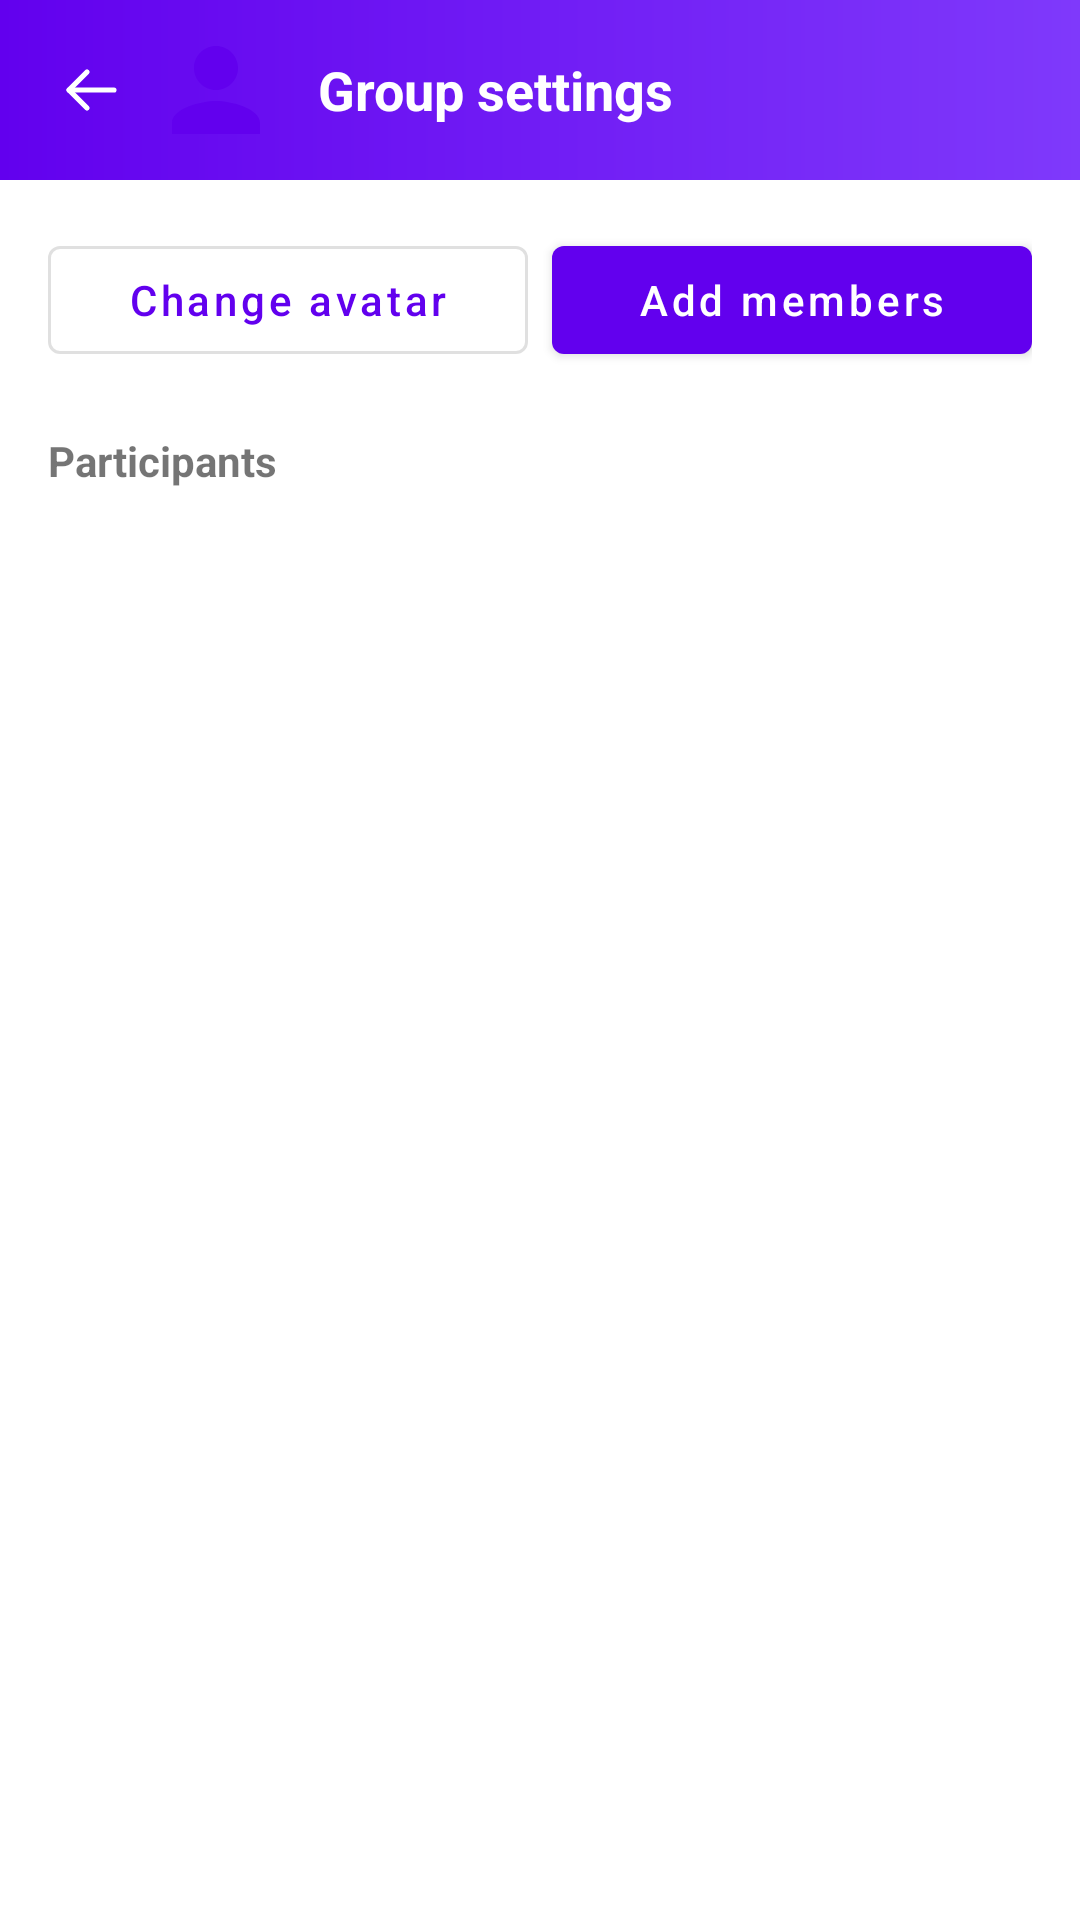

Locate icon controls on the screen. Image size 1080 × 1920, boxes as (x1, y1, x2, y2).
Back: (66, 69, 117, 111)
